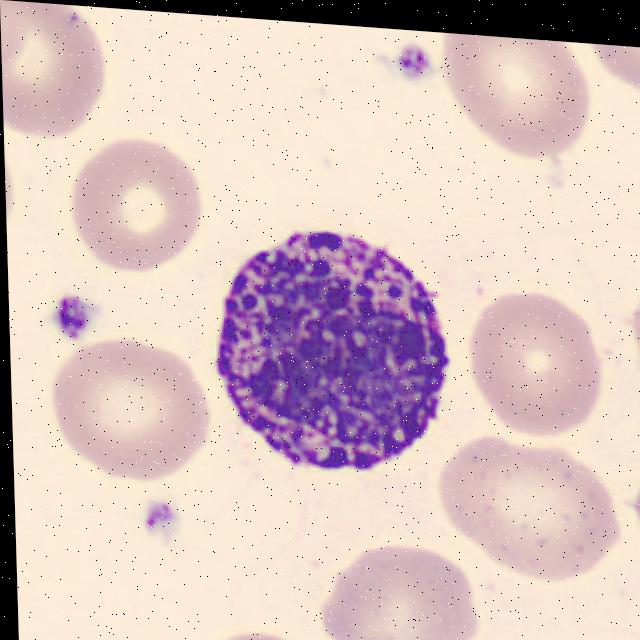basophil: (207, 215, 466, 490)
platelets: (133, 487, 192, 558), (48, 286, 112, 349), (393, 39, 435, 100)
rbc: (435, 434, 619, 605), (35, 331, 219, 489), (461, 266, 618, 444), (64, 126, 210, 285), (441, 33, 595, 167), (311, 530, 494, 640), (0, 0, 115, 139), (570, 42, 640, 105), (0, 0, 37, 73), (622, 260, 640, 392), (202, 621, 323, 640), (632, 443, 640, 571)
